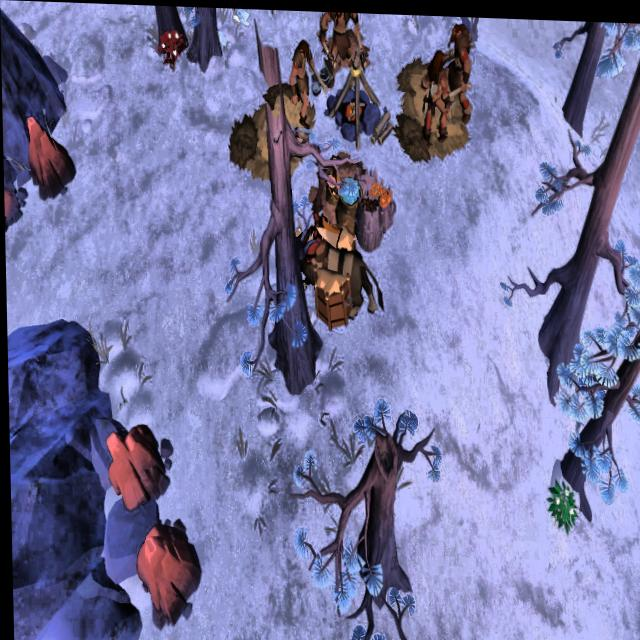enemy_factionKeeper: (283, 37, 314, 134), (317, 9, 364, 72), (442, 17, 472, 115), (419, 44, 446, 143)
fiber_t3: (546, 474, 581, 527)
fiber_t5: (155, 25, 187, 69)
rock_t5: (135, 513, 204, 628), (100, 420, 170, 508), (25, 108, 76, 205)
